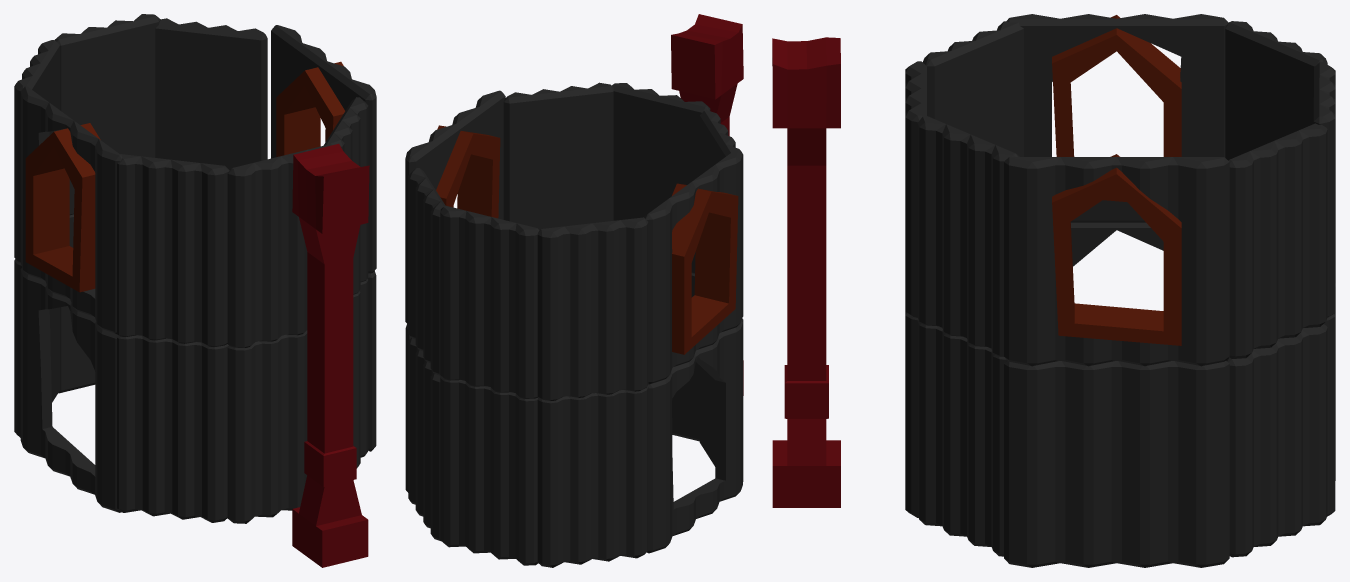
Rendered from Charlie_House.fbx.
The picture shows the model from 3 angles, left to right: view 1: azimuth 30°, elevation 25°; view 2: azimuth 150°, elevation 25°; view 3: azimuth 270°, elevation 25°; orthographic projection. The views are drawn at different scales.
Visible parts, largest first — view 1: Wall.018, Wall.347, Wall.346, Wall.303, Wall.327, Wall.328, Wall.342, Wall.135, Cube.087, Wall.343, Wall.299, Cube.089 (+6 smaller); view 2: Wall.344, Wall.345, Wall.135, Wall.136, Wall.154, Wall.342, Wall.328, Cube.087, Wall.343, Wall.303, Wall.018, Wall.016 (+6 smaller); view 3: Wall.300, Wall.299, Wall.018, Wall.303, Wall.016, Wall.154, Wall.326, Wall.343, Cube.089, Wall.347, Wall.344, Cube.087 (+5 smaller).
Part boxes in pixels (x1,y1,x2,y2): Wall.018: (292, 143, 369, 567); Wall.347: (113, 154, 229, 347); Wall.346: (116, 335, 228, 522); Wall.303: (155, 18, 267, 170); Wall.327: (227, 330, 307, 523); Wall.328: (227, 144, 330, 347); Wall.342: (20, 268, 121, 512); Wall.135: (54, 14, 160, 215); Cube.087: (25, 123, 100, 292); Wall.343: (20, 86, 122, 332); Wall.299: (271, 25, 376, 273); Cube.089: (276, 61, 344, 156); Wall.344: (537, 217, 648, 400); Wall.345: (537, 386, 648, 567); Wall.135: (440, 205, 539, 398); Wall.136: (440, 375, 538, 565); Wall.154: (503, 82, 613, 230); Wall.342: (647, 321, 742, 553); Wall.328: (612, 83, 710, 273); Cube.087: (672, 183, 738, 354); Wall.343: (644, 148, 742, 384); Wall.303: (408, 168, 445, 375); Wall.018: (671, 14, 743, 395); Wall.016: (408, 338, 441, 541); Wall.300: (1004, 360, 1229, 567); Wall.299: (1004, 157, 1229, 366); Wall.018: (772, 37, 840, 507); Wall.303: (1228, 123, 1327, 358); Wall.016: (1226, 324, 1327, 557); Wall.154: (917, 115, 1019, 356); Wall.326: (917, 320, 1007, 556); Wall.343: (1006, 14, 1228, 222); Cube.089: (1052, 154, 1181, 345); Wall.347: (922, 21, 1023, 156); Wall.344: (1225, 21, 1327, 160); Cube.087: (1052, 15, 1181, 201).
Bounding box in the file's own units: 17332 × 22560 × 25883.
